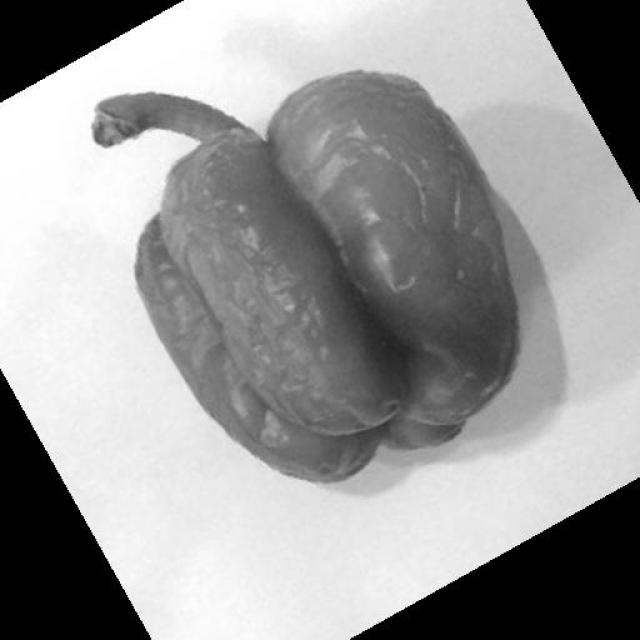Stale_Capsicum: (104, 86, 501, 466)
